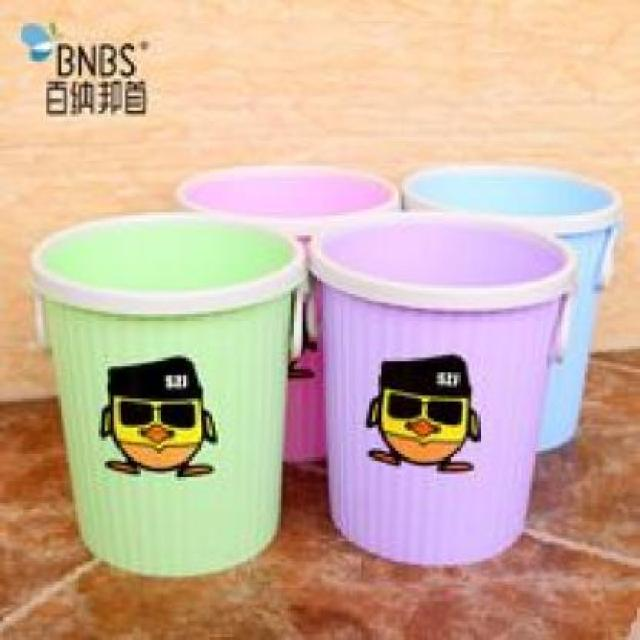dustbin: (26, 211, 310, 580), (309, 206, 581, 569), (175, 162, 402, 466), (401, 160, 627, 455)
